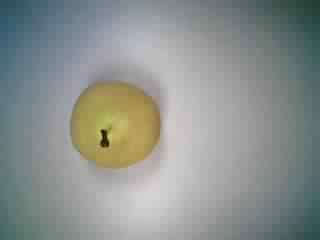pear: (63, 75, 164, 170)
